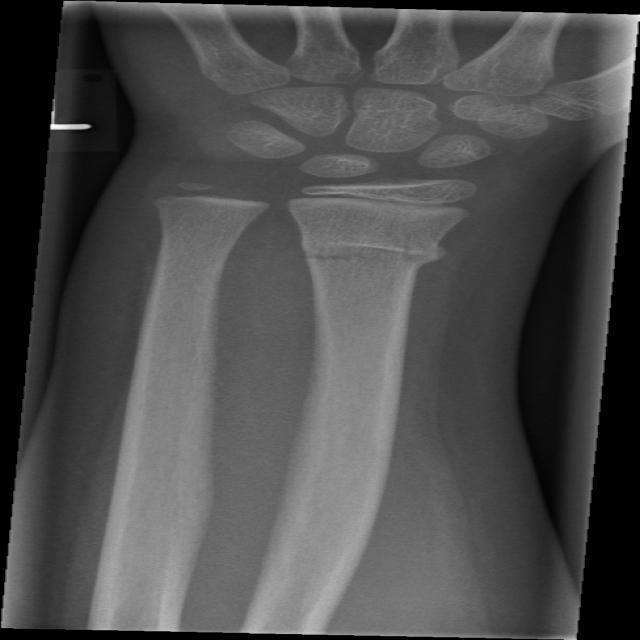radius fracture: (281, 206, 508, 306)
